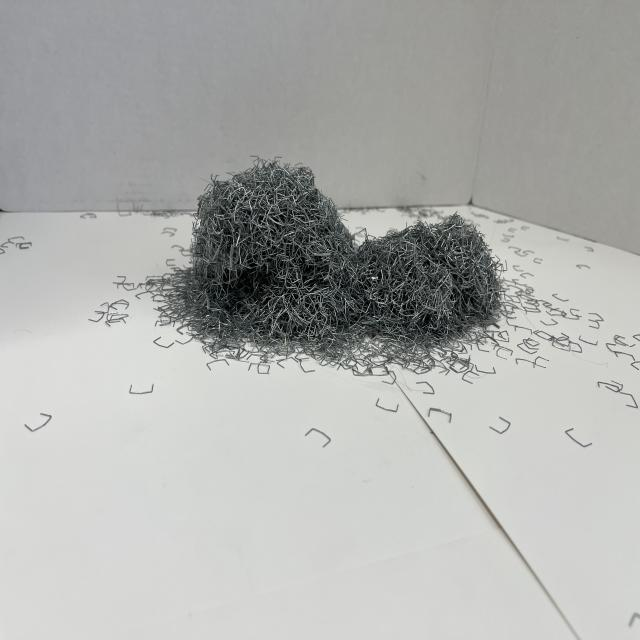staples: (158, 154, 507, 350)
